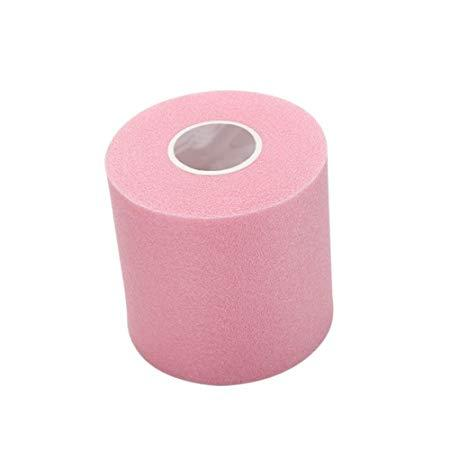bandage: (106, 89, 331, 386)
